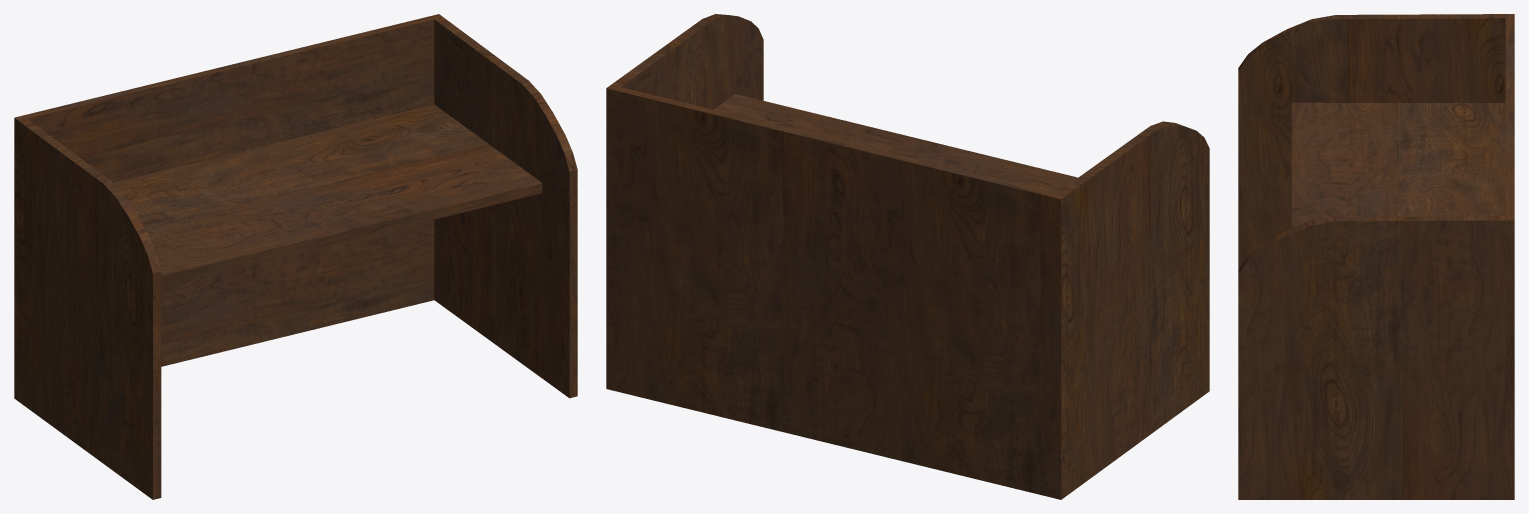
File: BorderDesk.fbx
3 views of the same model, side by side, from view 1: azimuth 30°, elevation 25°; view 2: azimuth 150°, elevation 25°; view 3: azimuth 270°, elevation 25° (orthographic). The views are drawn at different scales.
Visible parts, largest first — view 1: Cube.046; view 2: Cube.046; view 3: Cube.046.
Part boxes in pixels (box(x1,y1,x2,y2)): Cube.046: box(14, 14, 577, 499); Cube.046: box(606, 14, 1209, 499); Cube.046: box(1238, 14, 1514, 499).
Size of the model in its own units: 482 by 304 by 272.
1 material, 1 textured.
